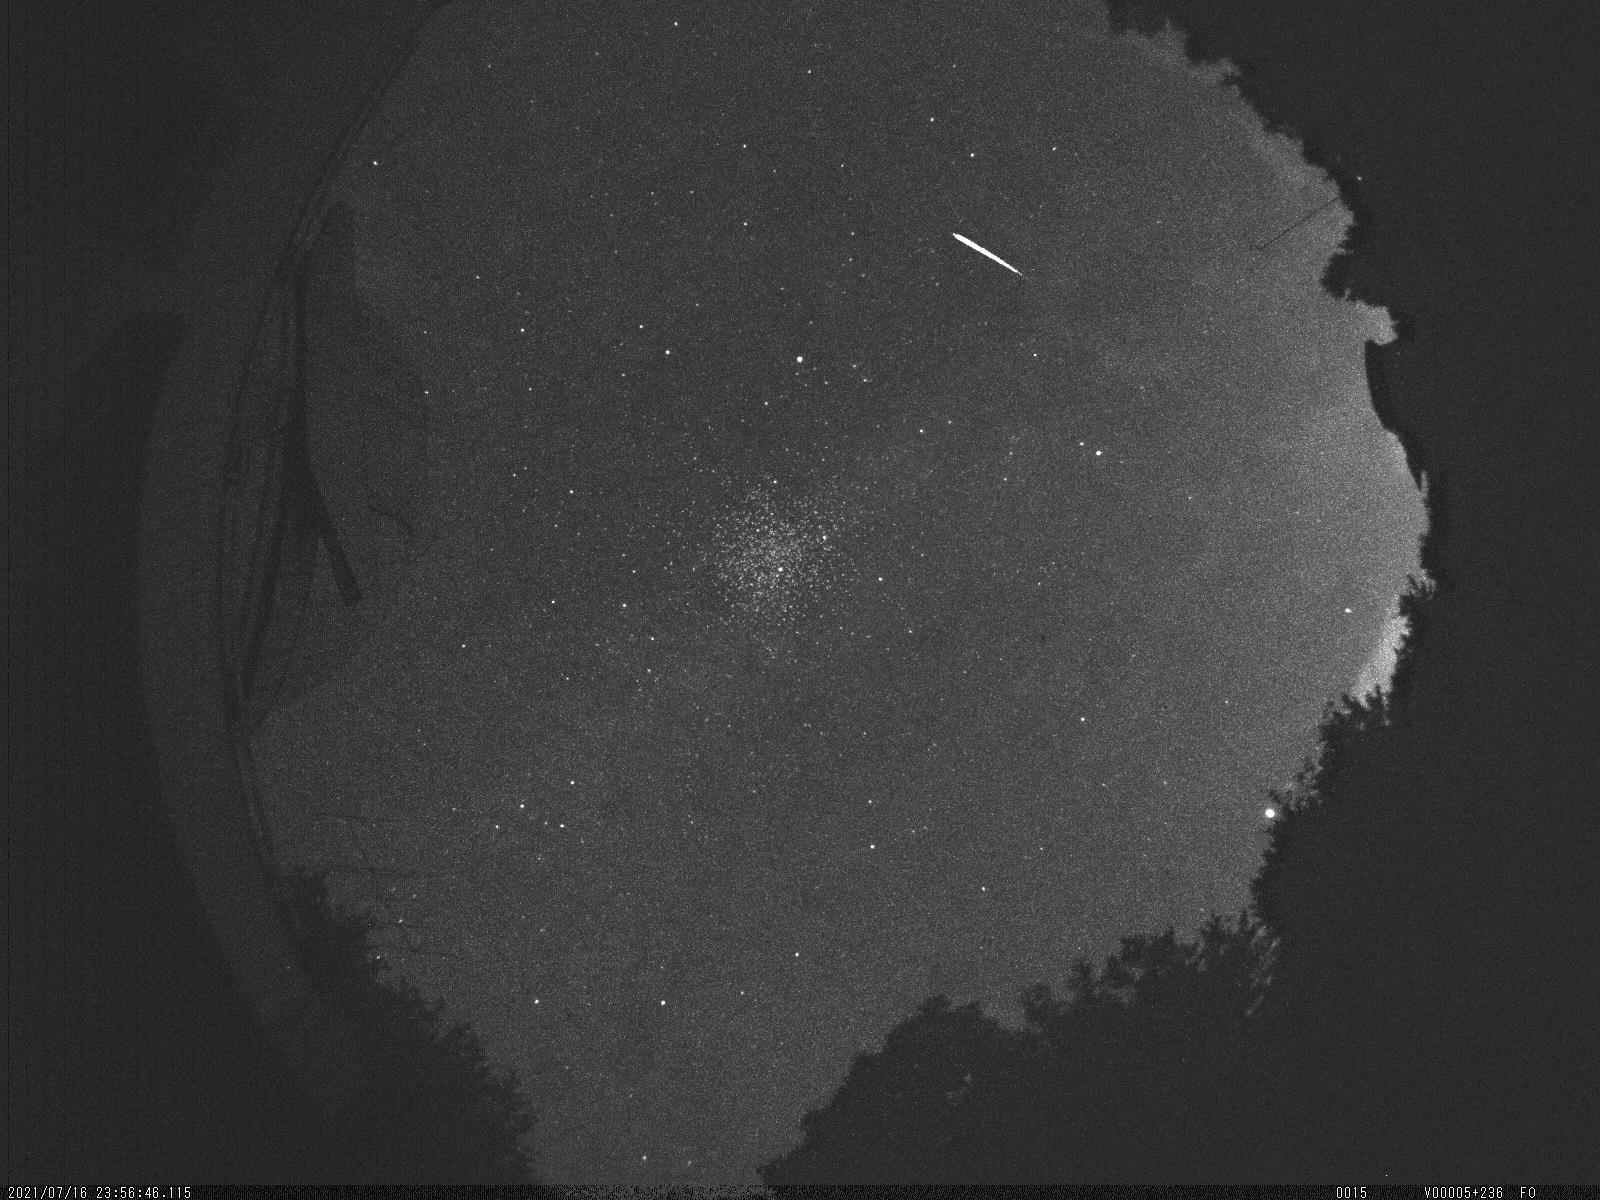Meteor: (944, 226, 1043, 290)
